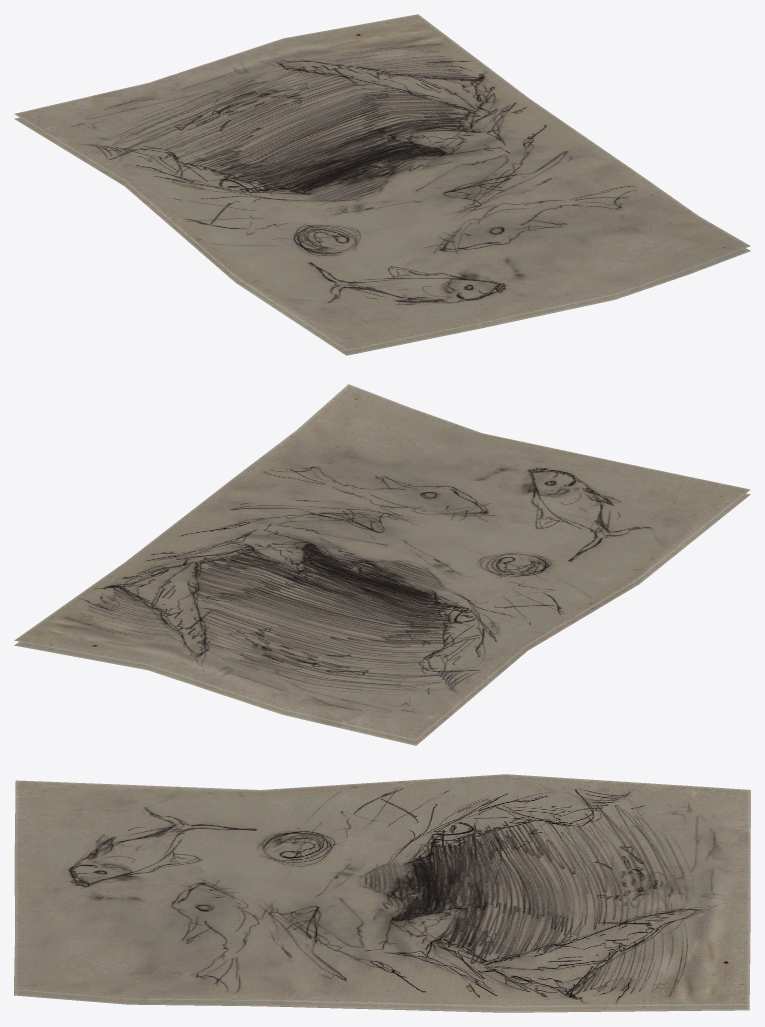
The model's file is 01_01_note_amy.dae.
The picture shows the model from 3 angles, top to bottom: view 1: azimuth 30°, elevation 25°; view 2: azimuth 150°, elevation 25°; view 3: azimuth 270°, elevation 25°; orthographic projection. The views are drawn at different scales.
Parts seen in each view (by area): view 1: note_amy; view 2: note_amy; view 3: note_amy.
Boxes of the visible parts, x1=… form: note_amy: x1=14, y1=14, x2=750, y2=355; note_amy: x1=14, y1=384, x2=750, y2=745; note_amy: x1=14, y1=774, x2=750, y2=1012.
Bounding box in the file's own units: 0.2454 × 0.0137 × 0.3512.
